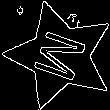M_E: (27, 26, 93, 86)
